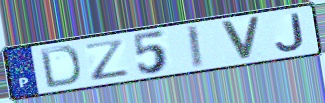5: (132, 27, 174, 76)
D: (37, 44, 83, 90)
I: (184, 23, 206, 71)
J: (274, 11, 307, 52)
V: (218, 15, 263, 61)
Z: (82, 37, 131, 82)
